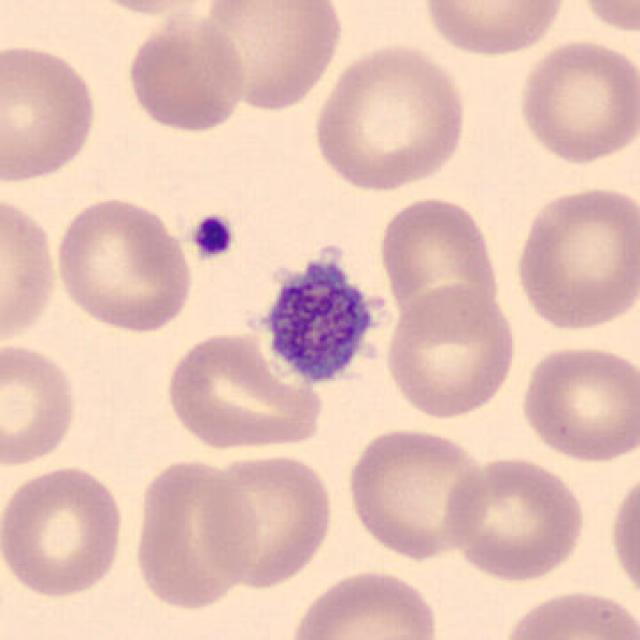Platelets: (256, 242, 393, 393), (188, 212, 236, 261)
RBC: (307, 37, 473, 196), (128, 453, 261, 614), (160, 328, 329, 453), (342, 423, 492, 563), (50, 192, 196, 335), (195, 448, 338, 592), (510, 180, 638, 335), (382, 280, 521, 422), (442, 453, 588, 584), (375, 192, 505, 333), (0, 462, 128, 601), (194, 0, 346, 115), (123, 5, 249, 136), (512, 37, 638, 168), (516, 340, 638, 467), (0, 40, 101, 186), (282, 566, 444, 640), (0, 338, 82, 469), (0, 189, 62, 351), (416, 0, 572, 58), (498, 585, 638, 640), (606, 466, 640, 606), (75, 0, 224, 18), (570, 0, 640, 37)
